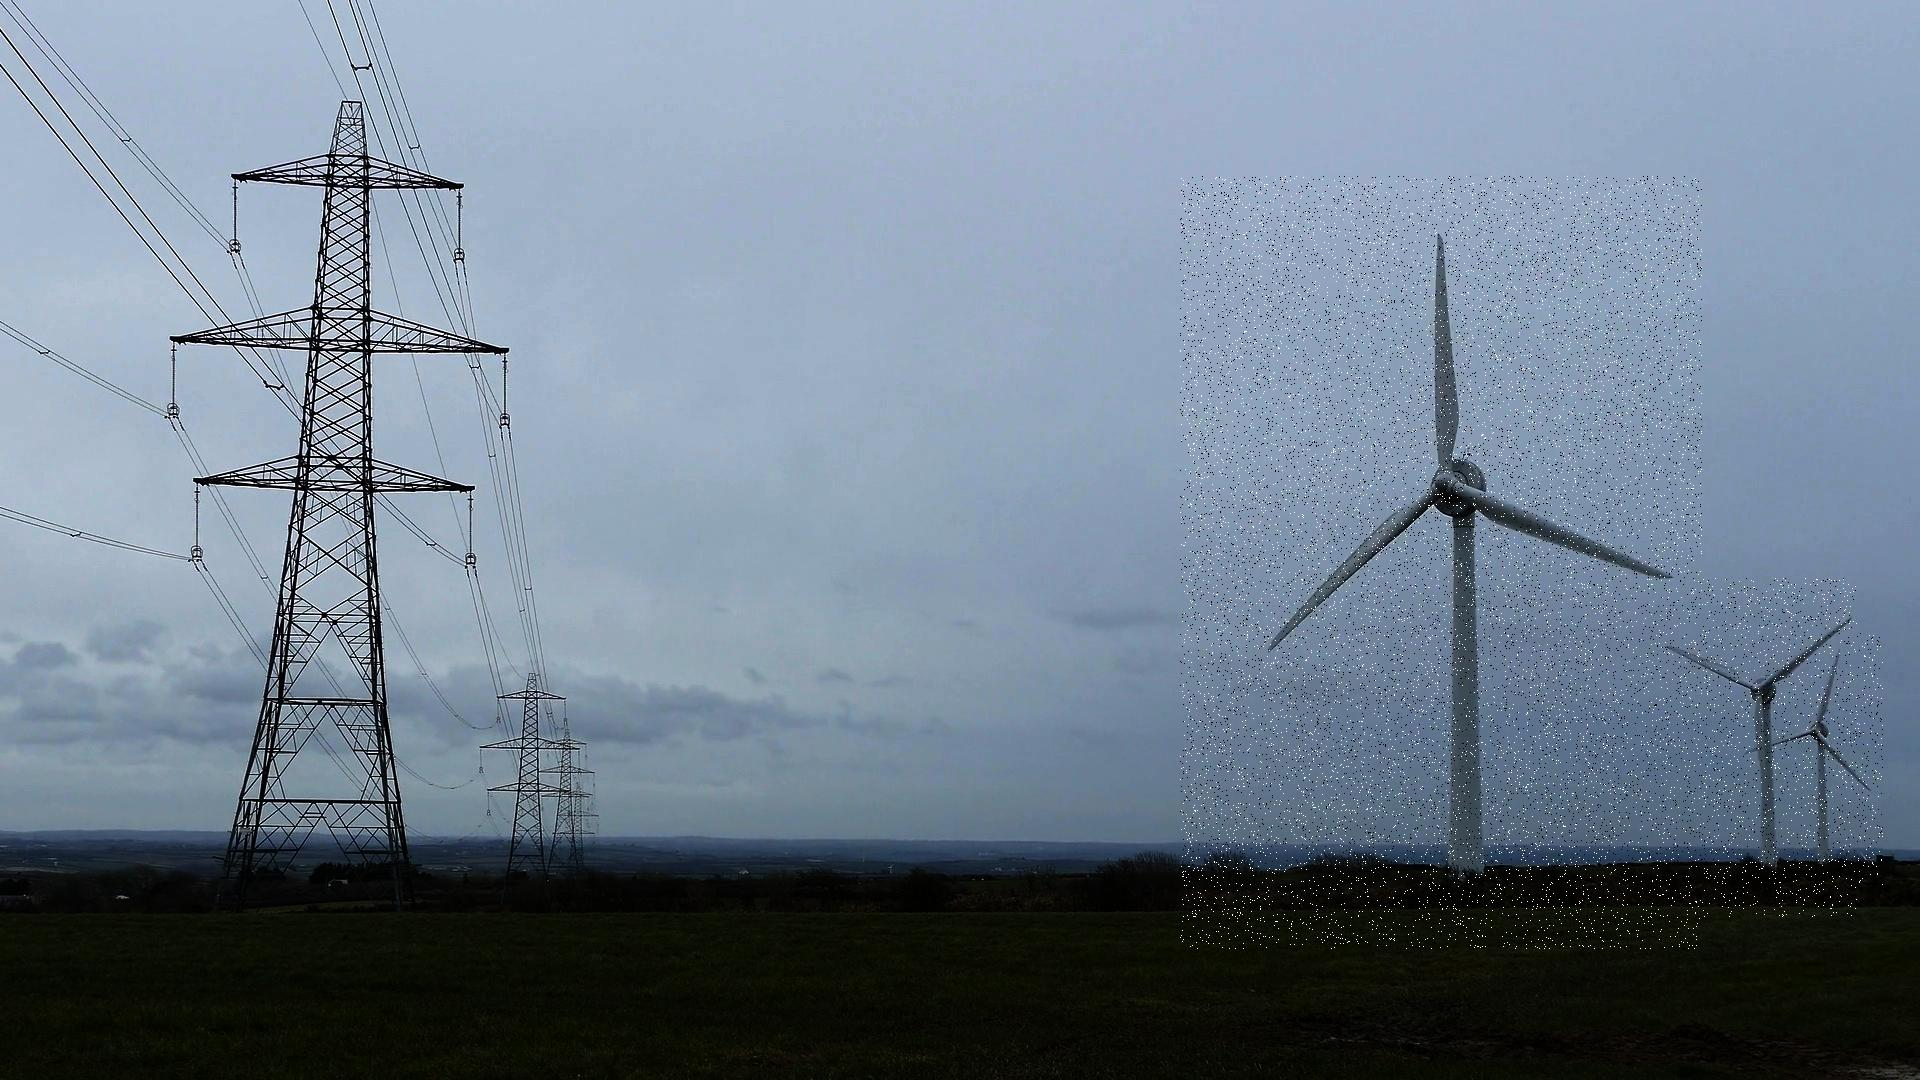cable tower: (164, 98, 506, 905), (477, 674, 582, 882), (539, 728, 593, 877), (563, 781, 599, 864)
turbine: (1180, 175, 1702, 949), (1627, 579, 1857, 918), (1727, 633, 1883, 887)
